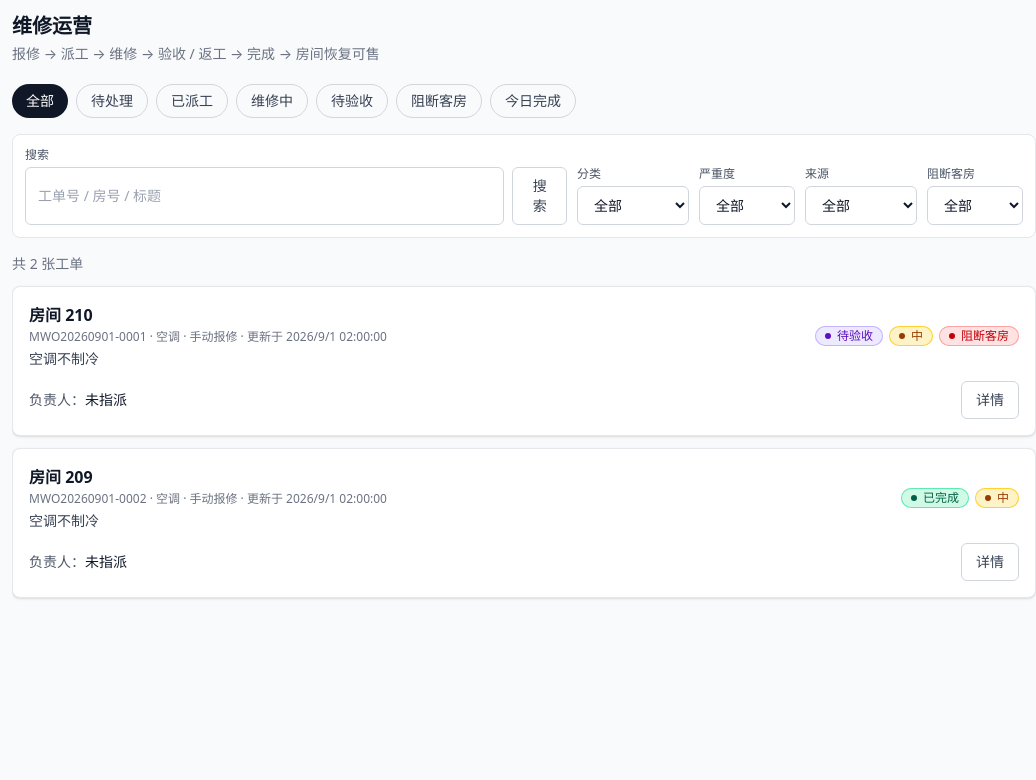
Test case: MaintenanceWorkspaceView › 阻断客房视图查询 blocks_room=true 并只保留 Active 工单
Expected: the link "房间 210" is shown, [29, 304, 93, 326]
Click the button "阻断客房": (439, 101) [396, 84, 482, 118]
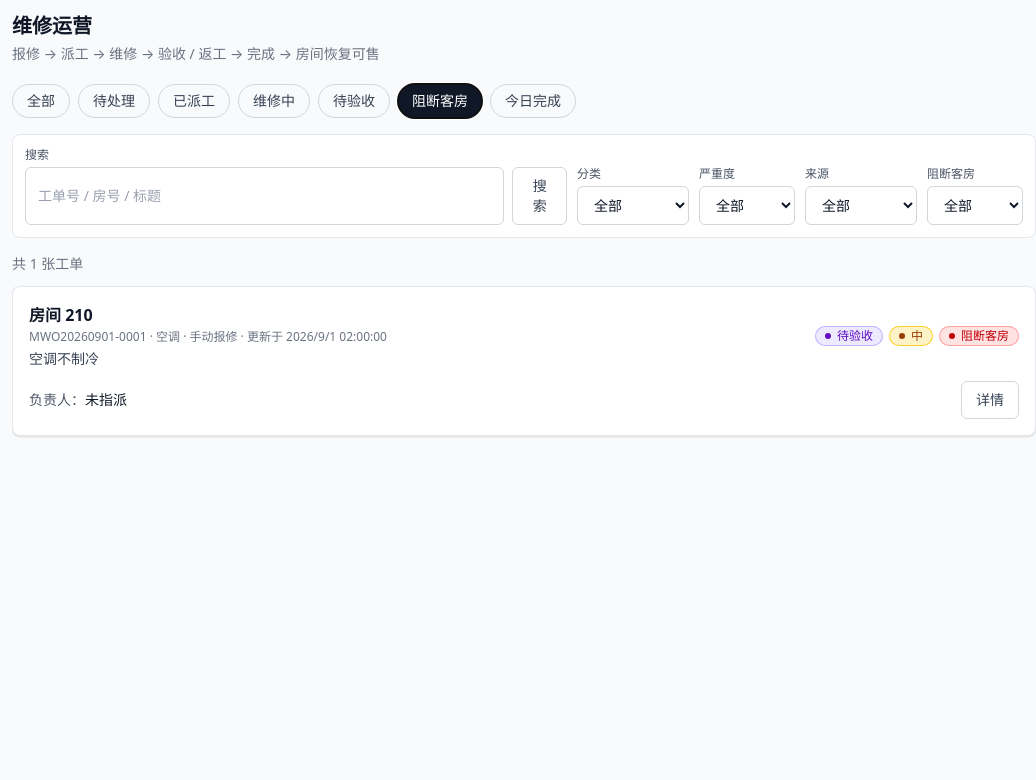
Expected: the link "房间 210" is shown, [29, 304, 93, 326]
Now the link "房间 209" is gone
